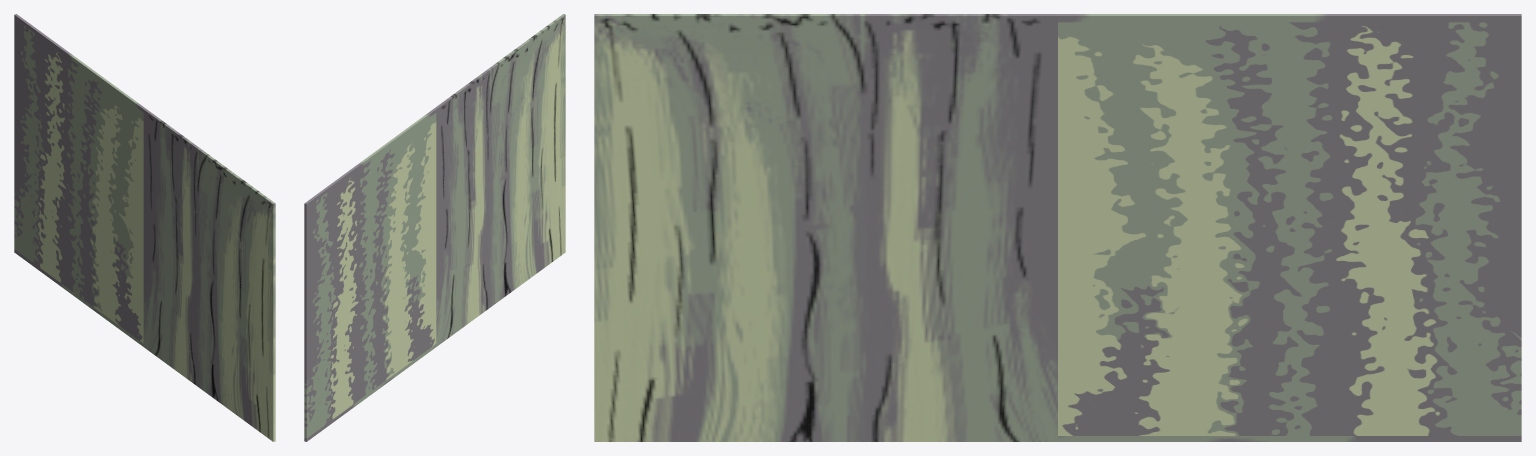
Rendered from bettercurtainupdate 1.fbx.
3 renders of one model, left to right at view 1: azimuth 30°, elevation 25°; view 2: azimuth 150°, elevation 25°; view 3: azimuth 270°, elevation 25°, orthographic. The views are drawn at different scales.
Visible parts, largest first — view 1: Plane.003, Plane.001; view 2: Plane.001, Plane.003; view 3: Plane.003, Plane.001.
Part boxes in pixels (bbox=[...]): Plane.003: bbox=[143, 109, 275, 441]; Plane.001: bbox=[14, 14, 145, 346]; Plane.001: bbox=[304, 109, 436, 441]; Plane.003: bbox=[434, 14, 565, 346]; Plane.003: bbox=[594, 14, 1057, 441]; Plane.001: bbox=[1058, 14, 1521, 441].
Bounding box in the file's own units: 2 × 183 × 362.
